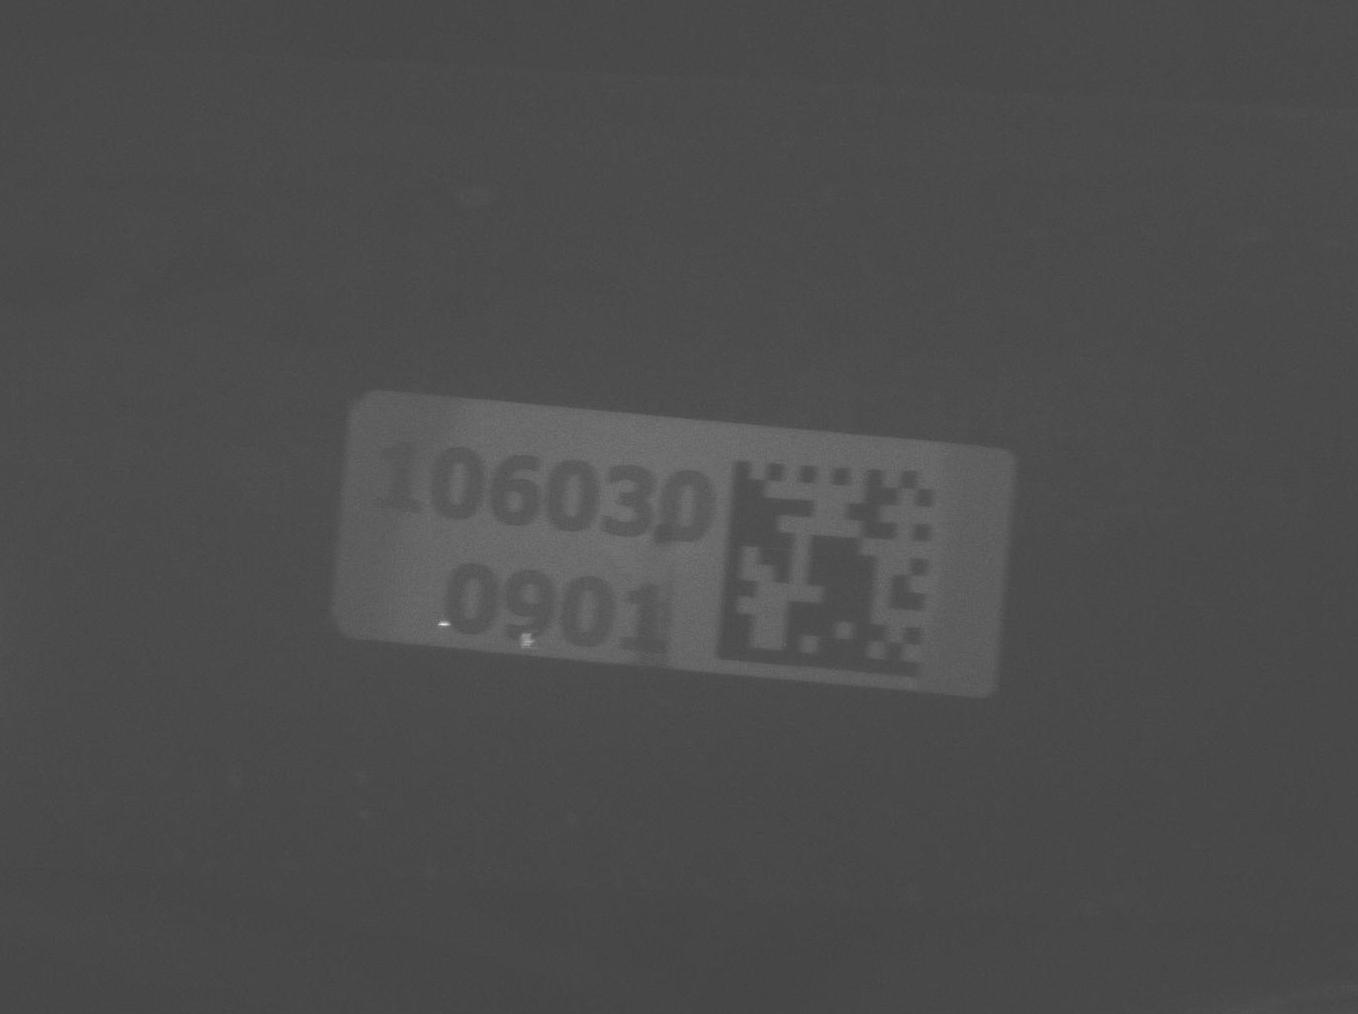data matrix: (710, 436, 962, 692)
